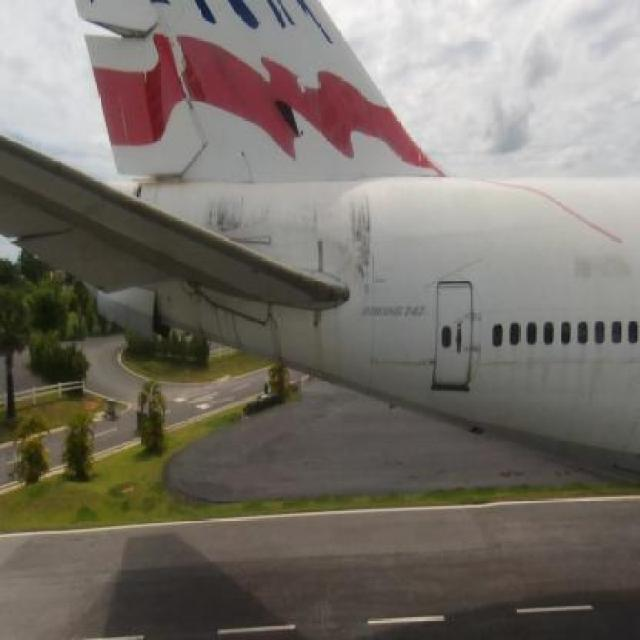Rust: (188, 280, 252, 360), (258, 194, 345, 249), (309, 304, 351, 384), (345, 184, 372, 296), (204, 184, 256, 233), (260, 301, 292, 365), (182, 93, 204, 124)
Scartch: (367, 349, 441, 382), (367, 248, 398, 309)
